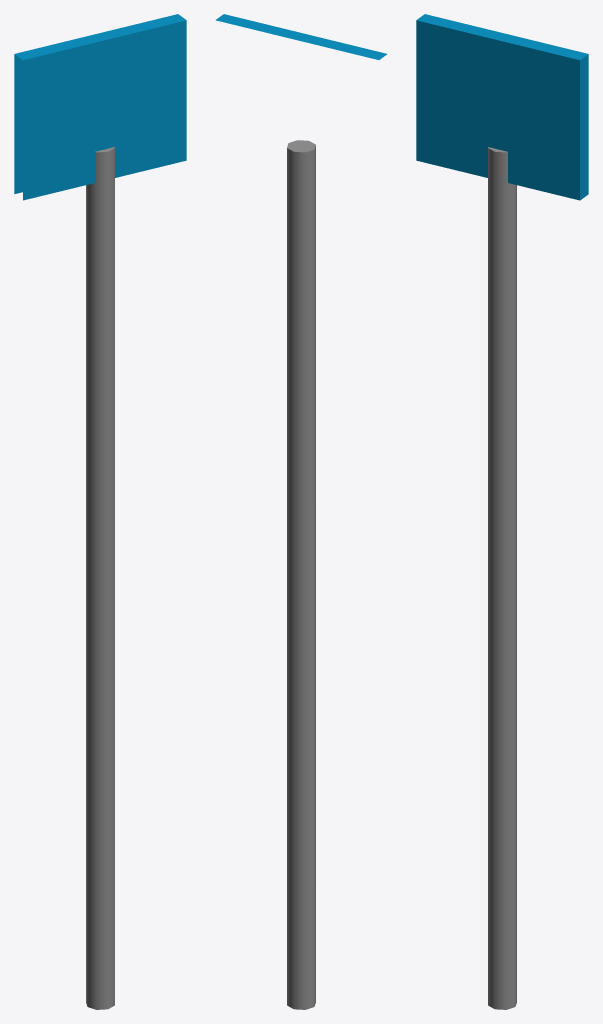
The model's file is pedestrian_crossing_sign.gltf.
3 views of the same model, side by side, from view 1: azimuth 30°, elevation 25°; view 2: azimuth 150°, elevation 25°; view 3: azimuth 330°, elevation 25° (orthographic).
Parts seen in each view (by area): view 1: SignBoard, SignPole; view 2: SignPole, SignBoard; view 3: SignBoard, SignPole.
Boxes of the visible parts, left/top/right/bottom form: SignBoard: left=14, top=14, right=186, bottom=200; SignPole: left=86, top=147, right=114, bottom=1009; SignPole: left=287, top=140, right=315, bottom=1009; SignBoard: left=215, top=14, right=387, bottom=59; SignBoard: left=416, top=14, right=588, bottom=200; SignPole: left=488, top=147, right=516, bottom=1009.
Bounding box in the file's own units: 0.44 × 2.48 × 0.07.
